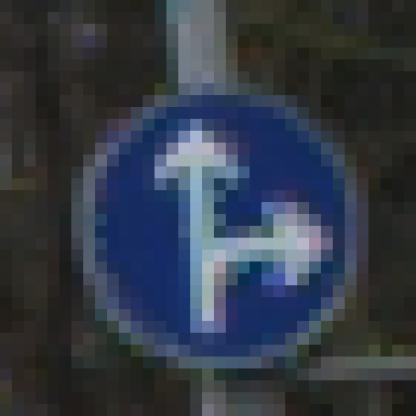Straight or Right: (72, 61, 358, 358)
